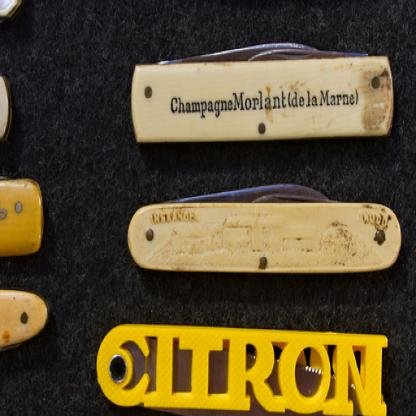knife: (126, 182, 401, 287), (131, 42, 398, 146)
